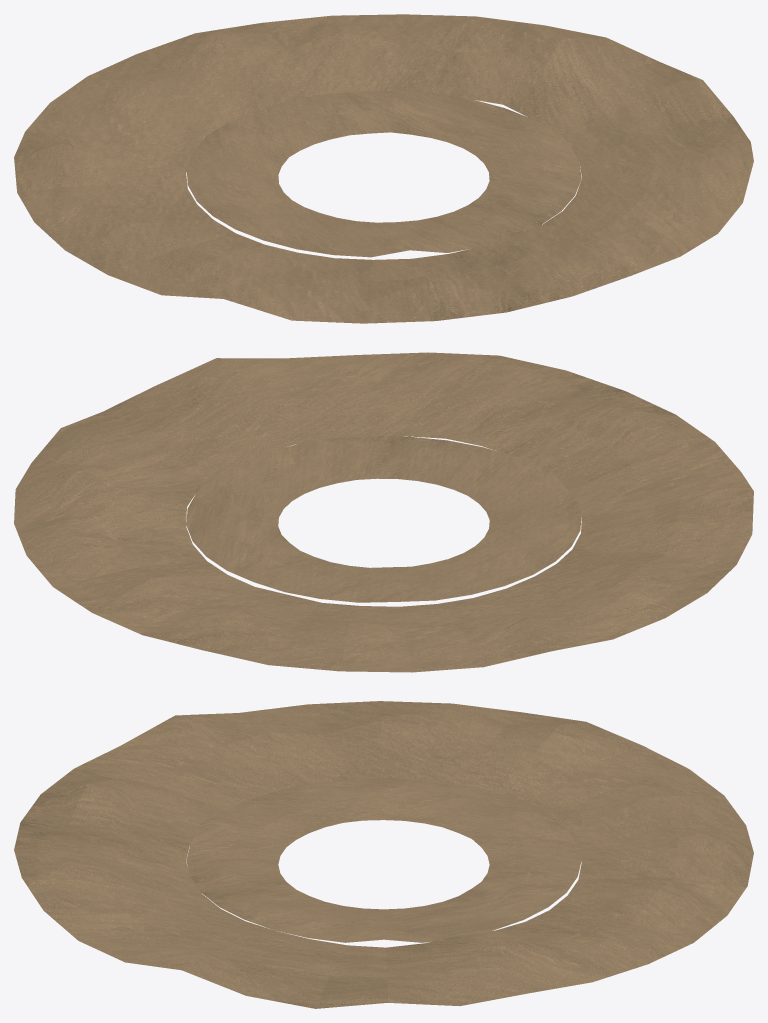
Rendered from env.glb.
The picture shows the model from 3 angles, top to bottom: view 1: azimuth 30°, elevation 25°; view 2: azimuth 150°, elevation 25°; view 3: azimuth 270°, elevation 25°; orthographic projection.
Visible parts, largest first — view 1: envTerrain, env; view 2: envTerrain, env; view 3: envTerrain, env.
Part boxes in pixels (x1,y1,x2,y2): envTerrain: (14, 14, 753, 323); env: (186, 91, 581, 257); envTerrain: (14, 352, 753, 672); env: (186, 436, 581, 602); envTerrain: (14, 701, 753, 1008); env: (186, 777, 581, 942).
Bounding box in the file's own units: 1534 × 88.62 × 1534.
Materials: 1 (1 with a texture image).
